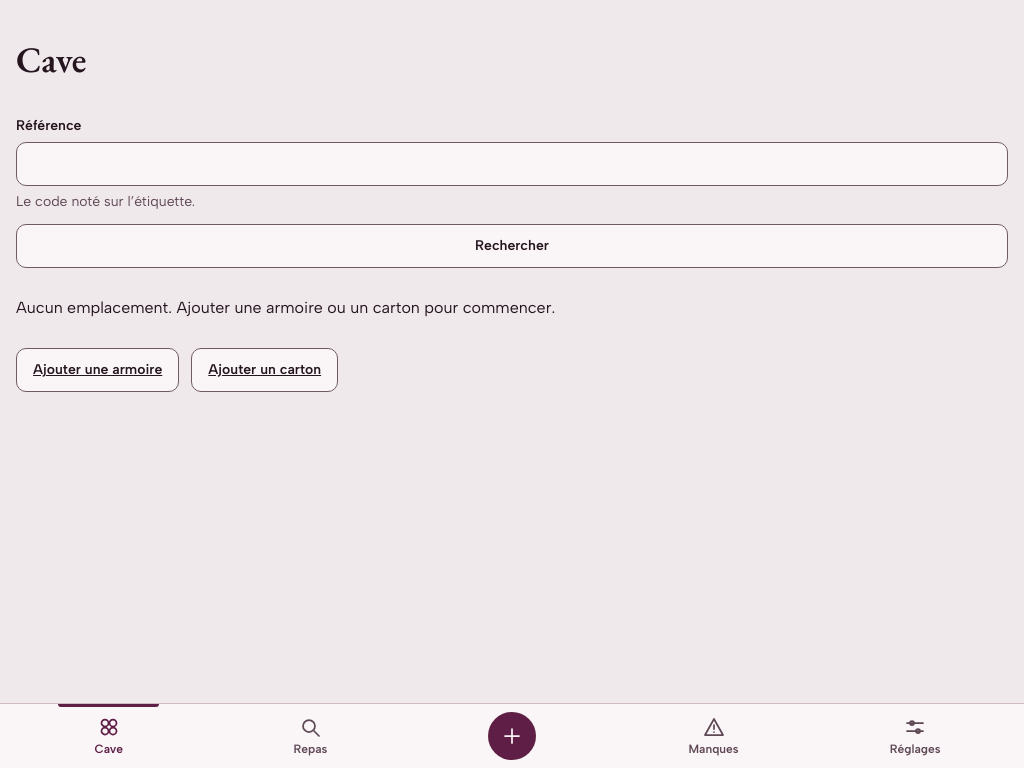
Test: App : session et routage › la barre de navigation change d’écran
This screenshot has width=1024, height=768.
expect the heading "Cave" is shown: met, box [16, 36, 86, 83]
Click the link "Réglages": (915, 736) [890, 715, 941, 756]
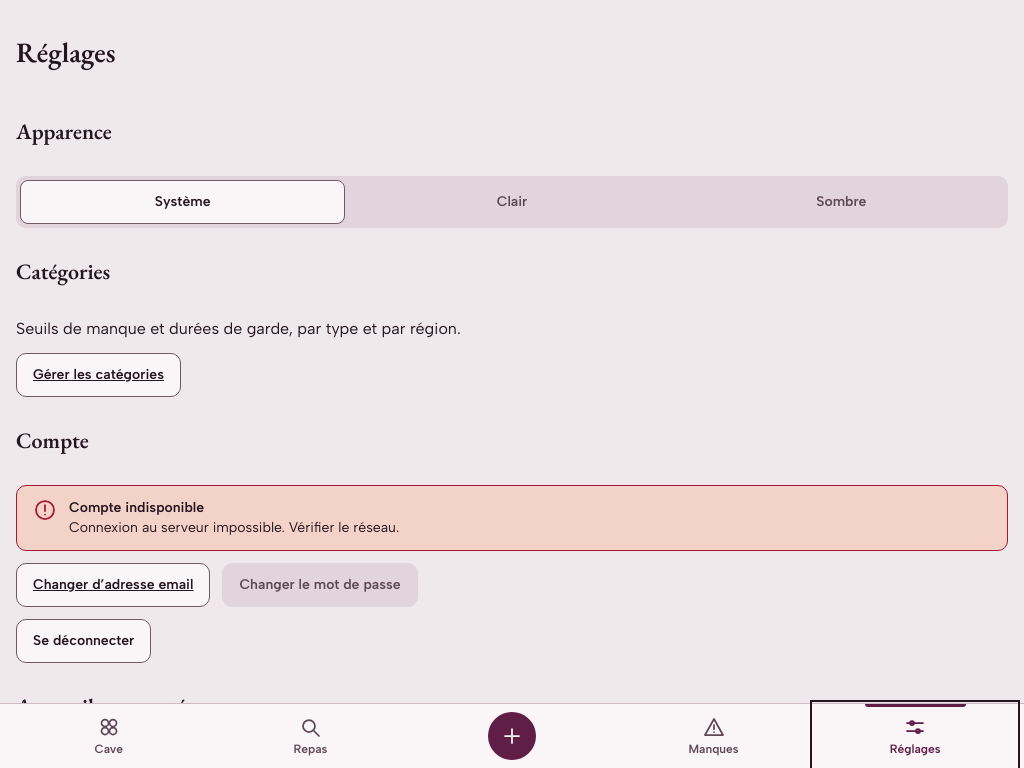
expect the heading "Réglages" is shown: met, box [16, 34, 116, 70]
